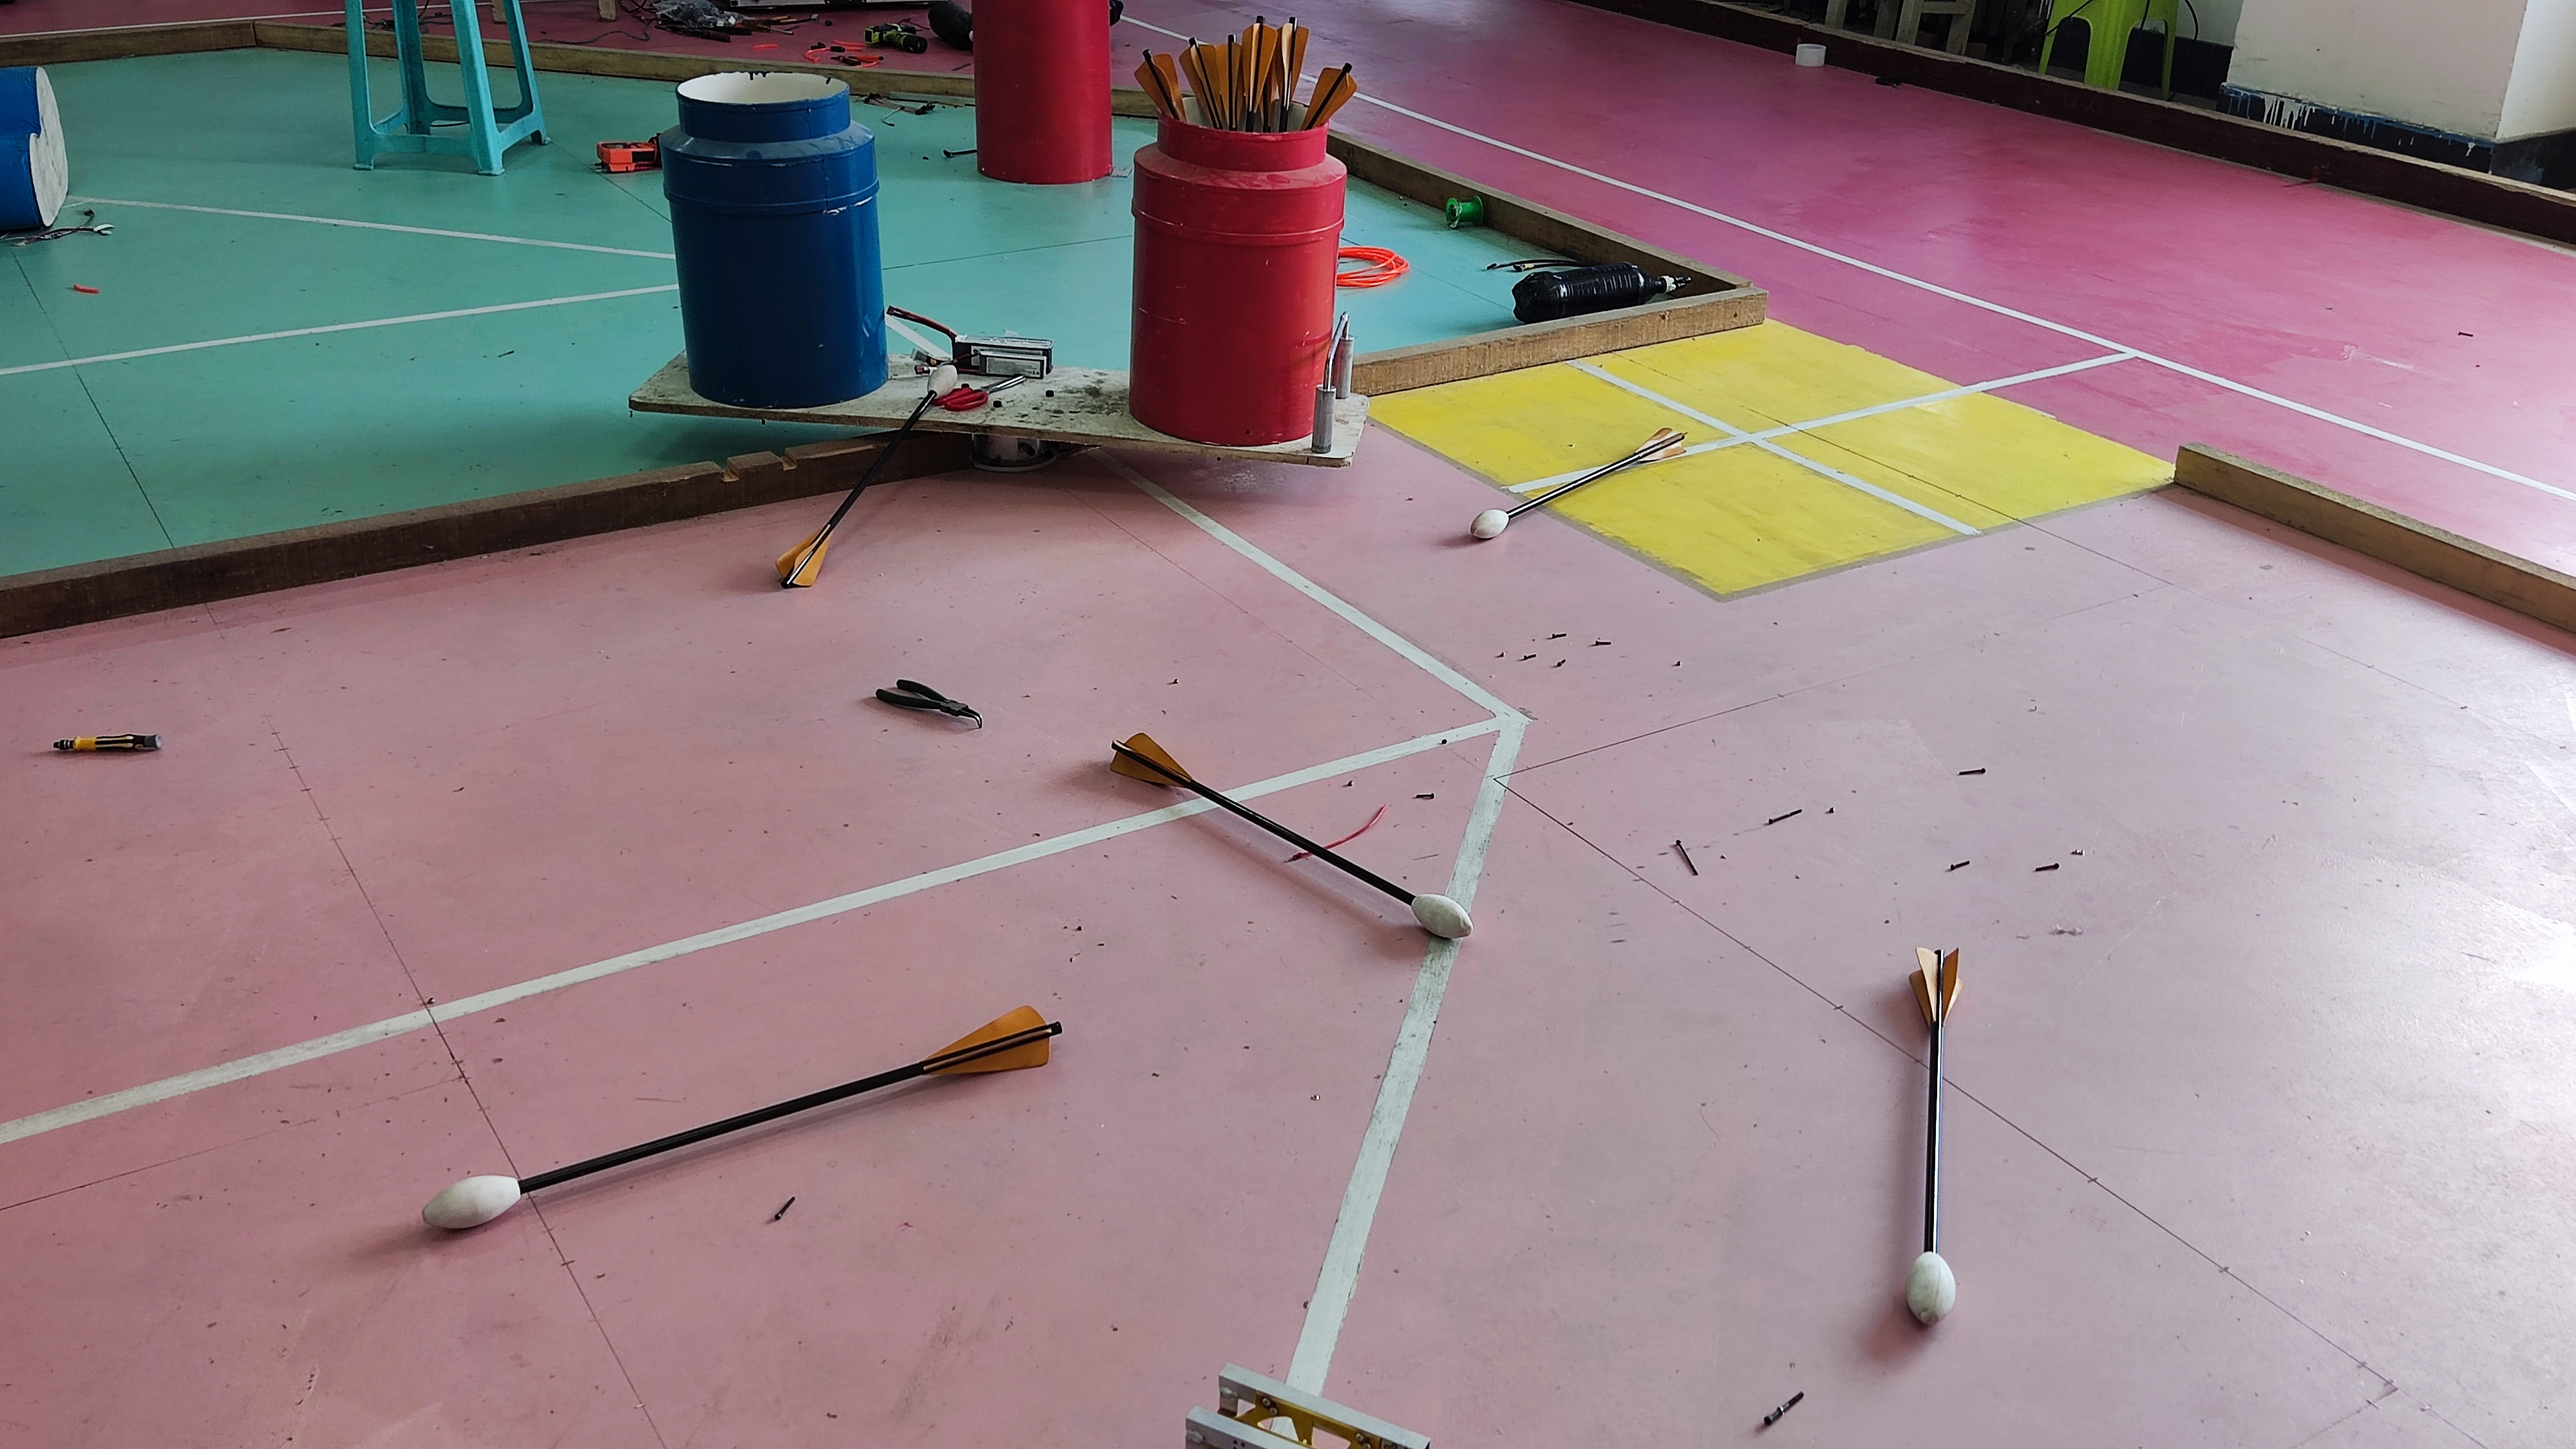arrow: (421, 1000, 1062, 1233), (1108, 722, 1476, 939), (782, 366, 955, 594), (1456, 425, 1695, 550), (1898, 943, 1960, 1346)
arrowFront: (425, 1175, 524, 1230), (1905, 1247, 1964, 1338), (1412, 883, 1477, 945), (1463, 502, 1513, 548), (915, 363, 954, 400)
blueBucket: (653, 64, 906, 407)
redBucket: (1129, 69, 1350, 441)
